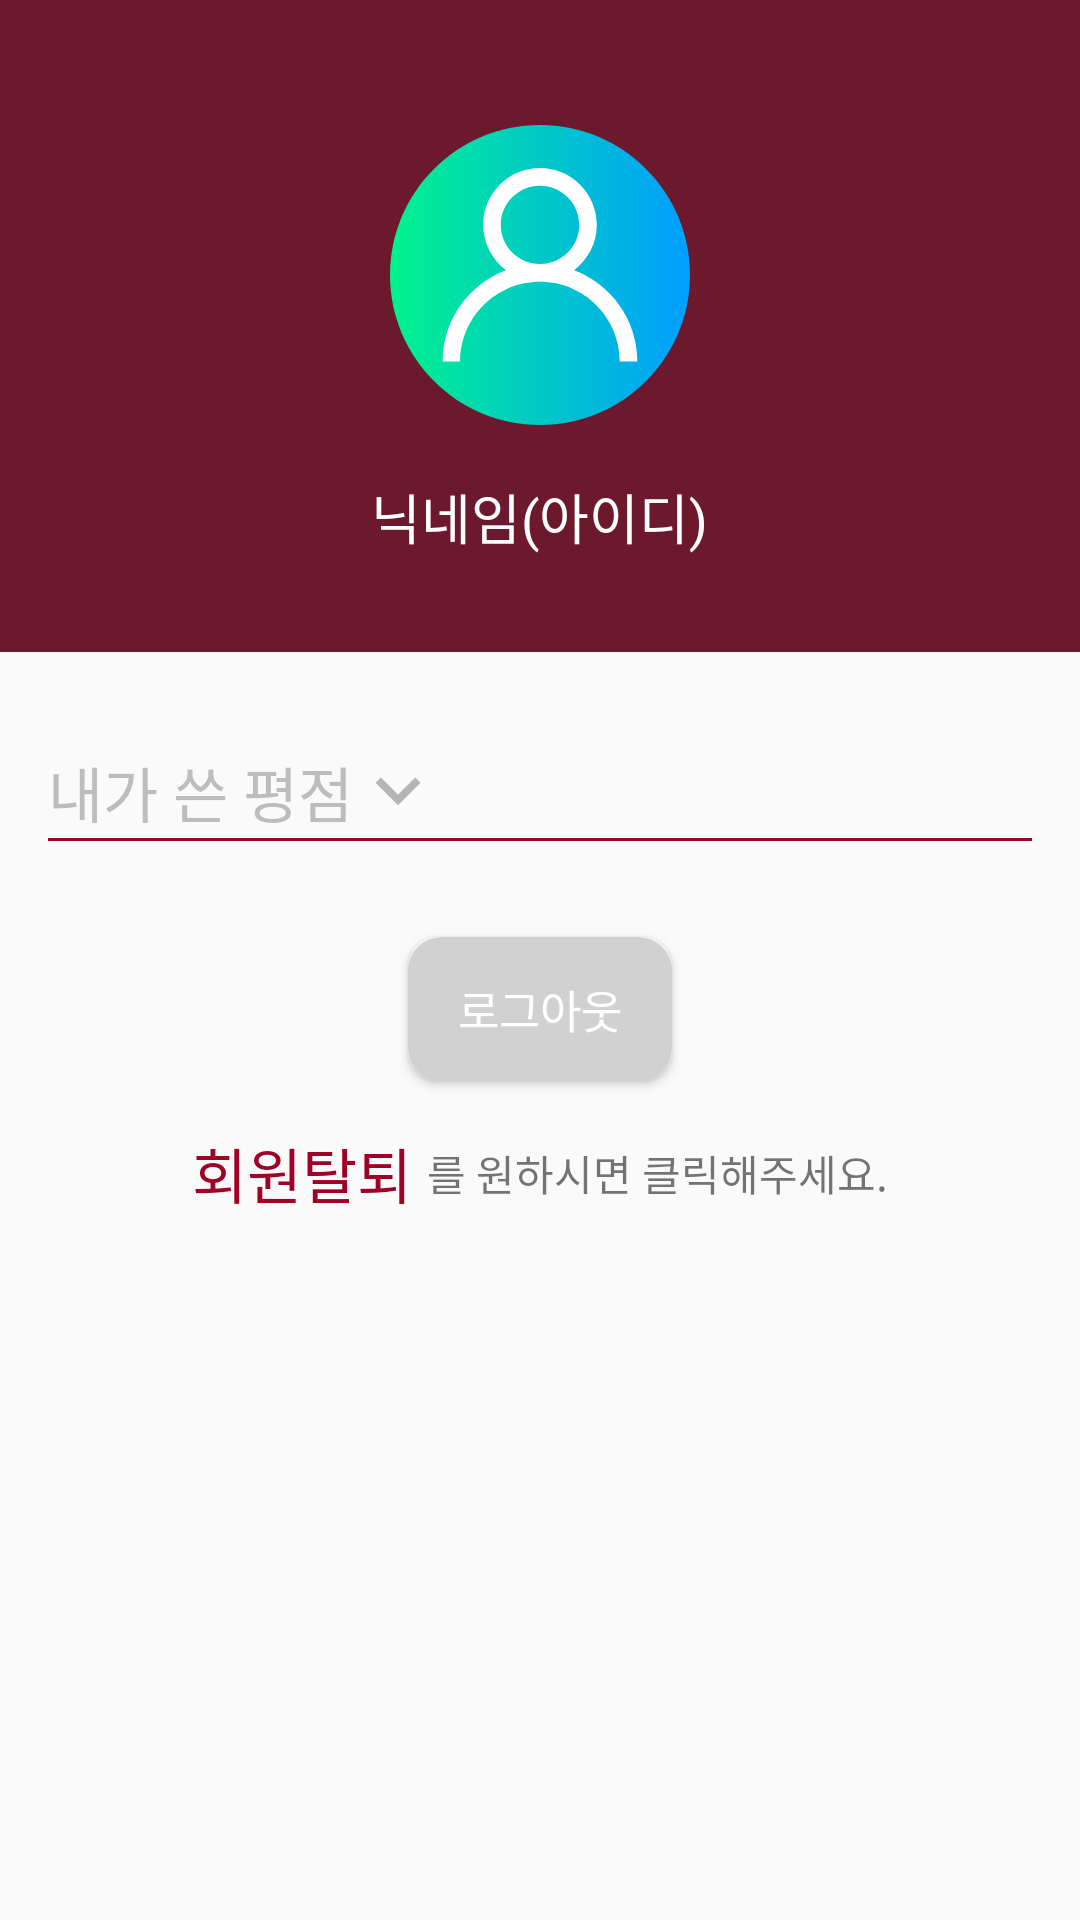

Where to tap for icons on this 1080x1920 app screen, as (x=x, y=y):
keyboard arrow down: (x=398, y=791)
user: (x=540, y=275)
